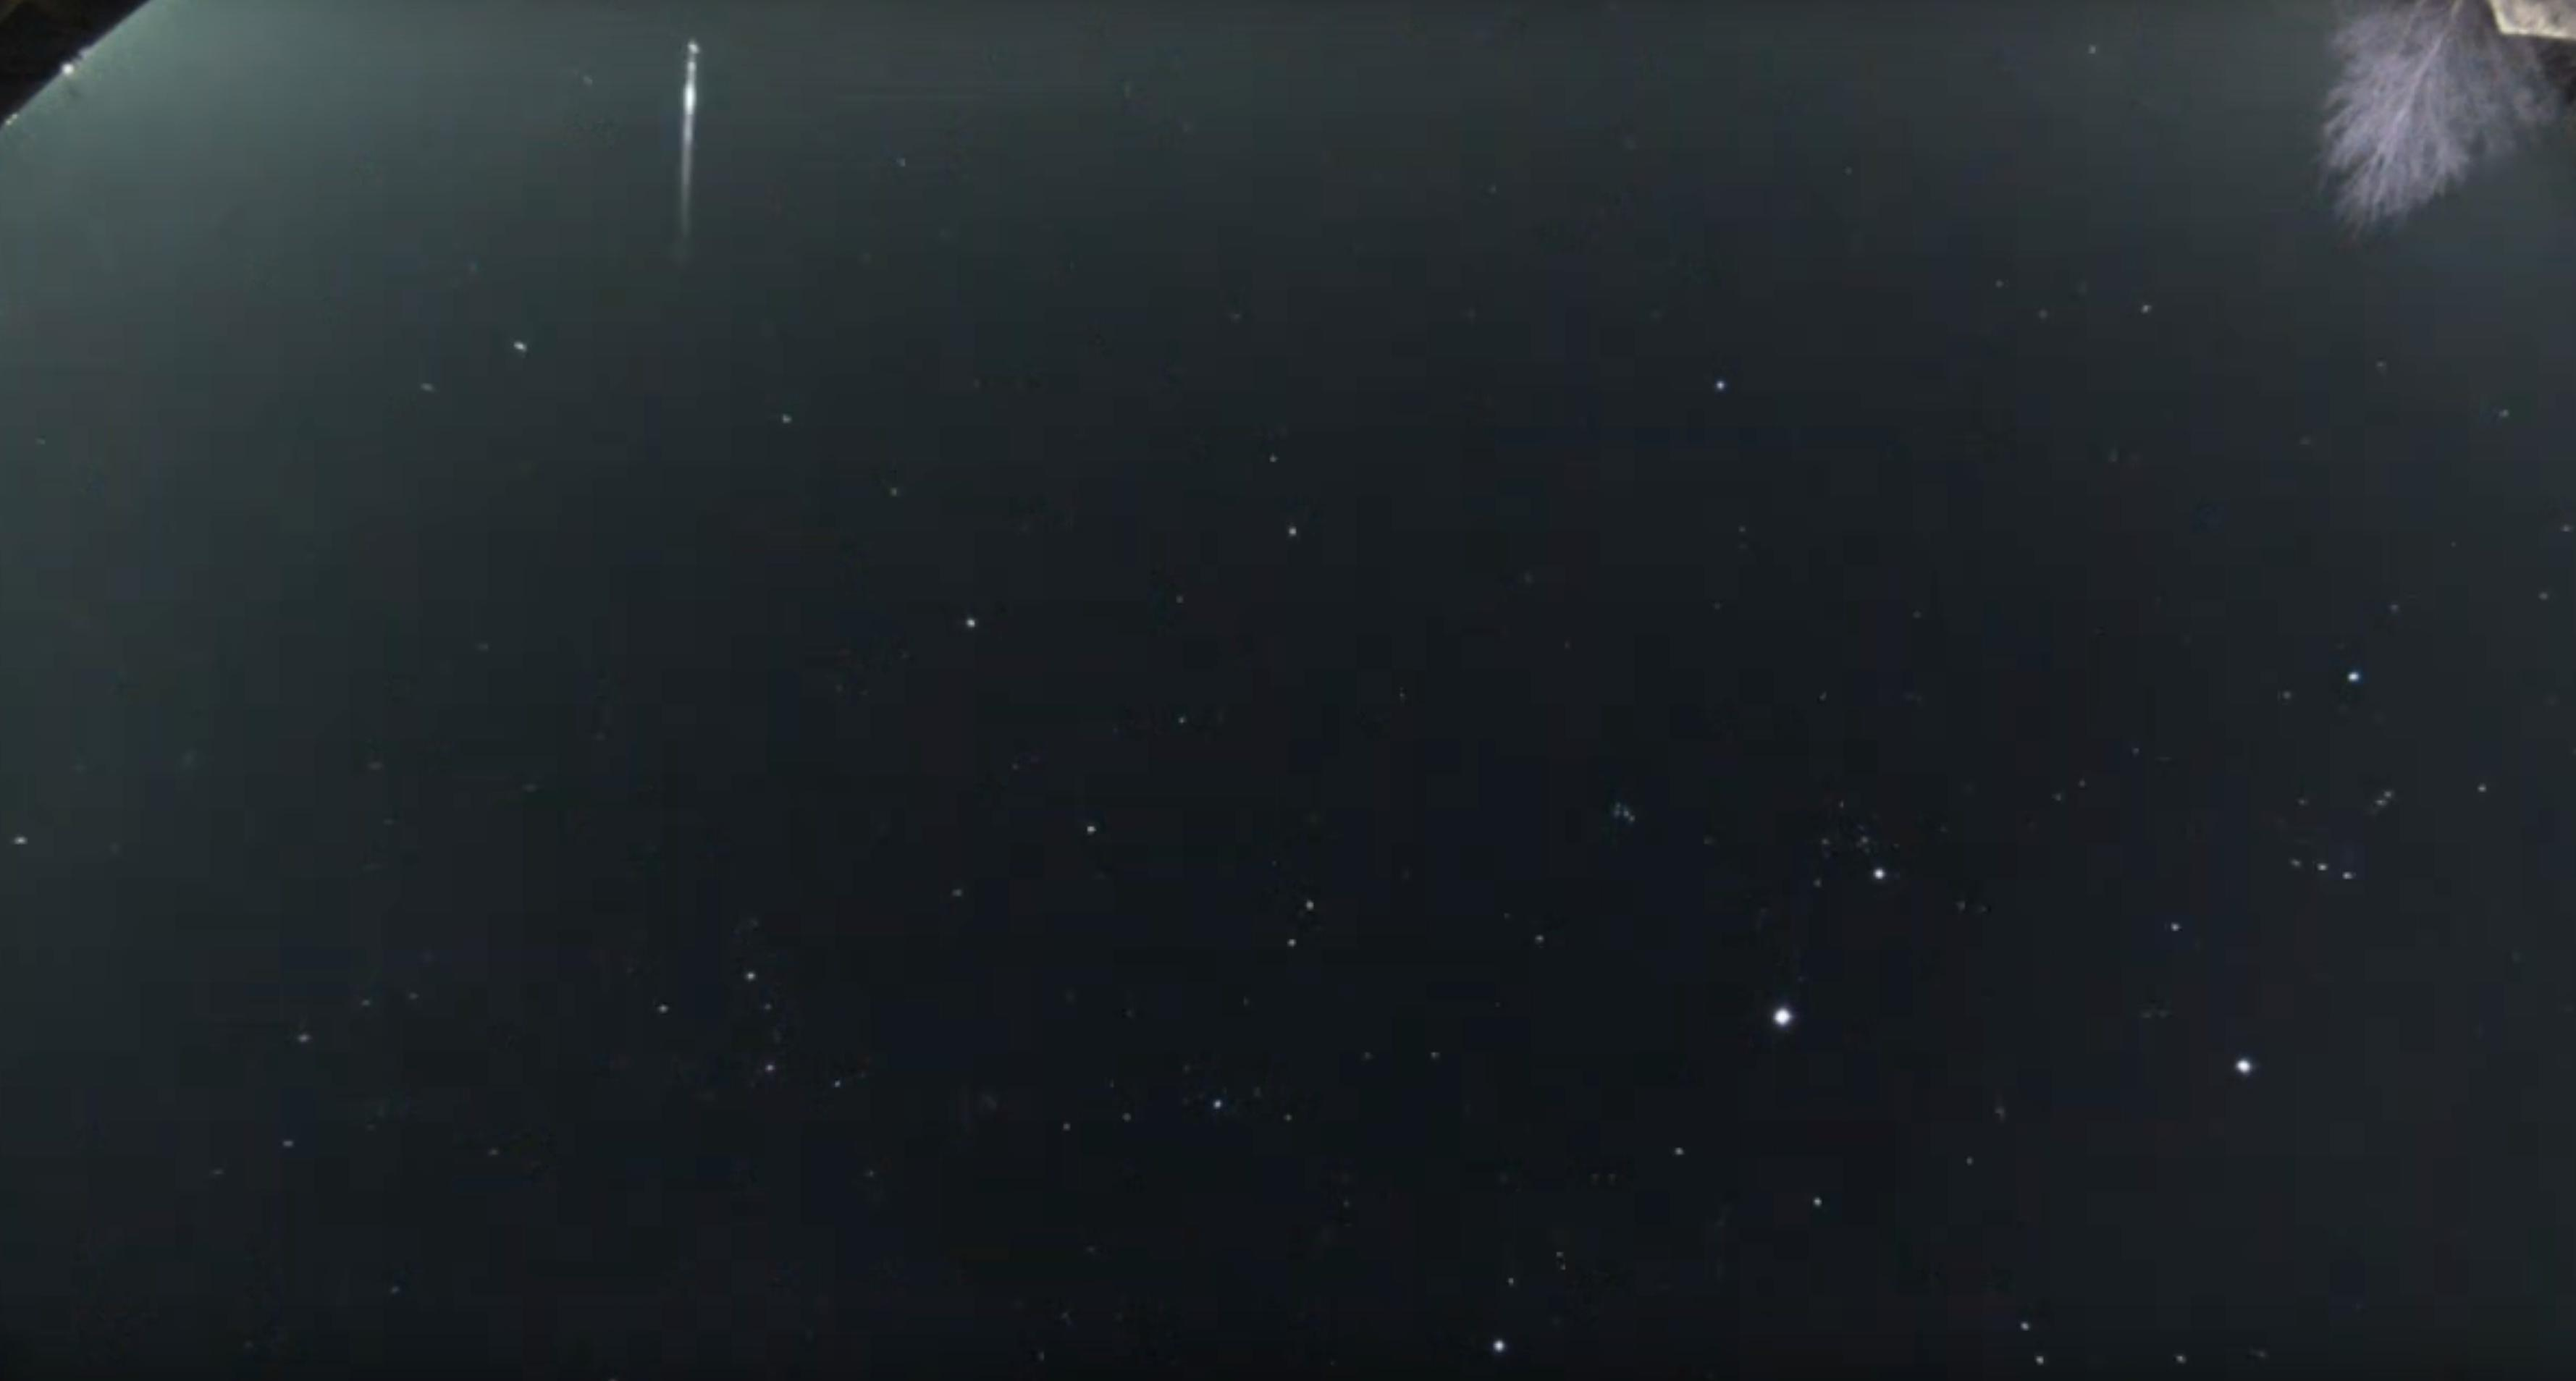meteorite: (624, 26, 762, 247)
